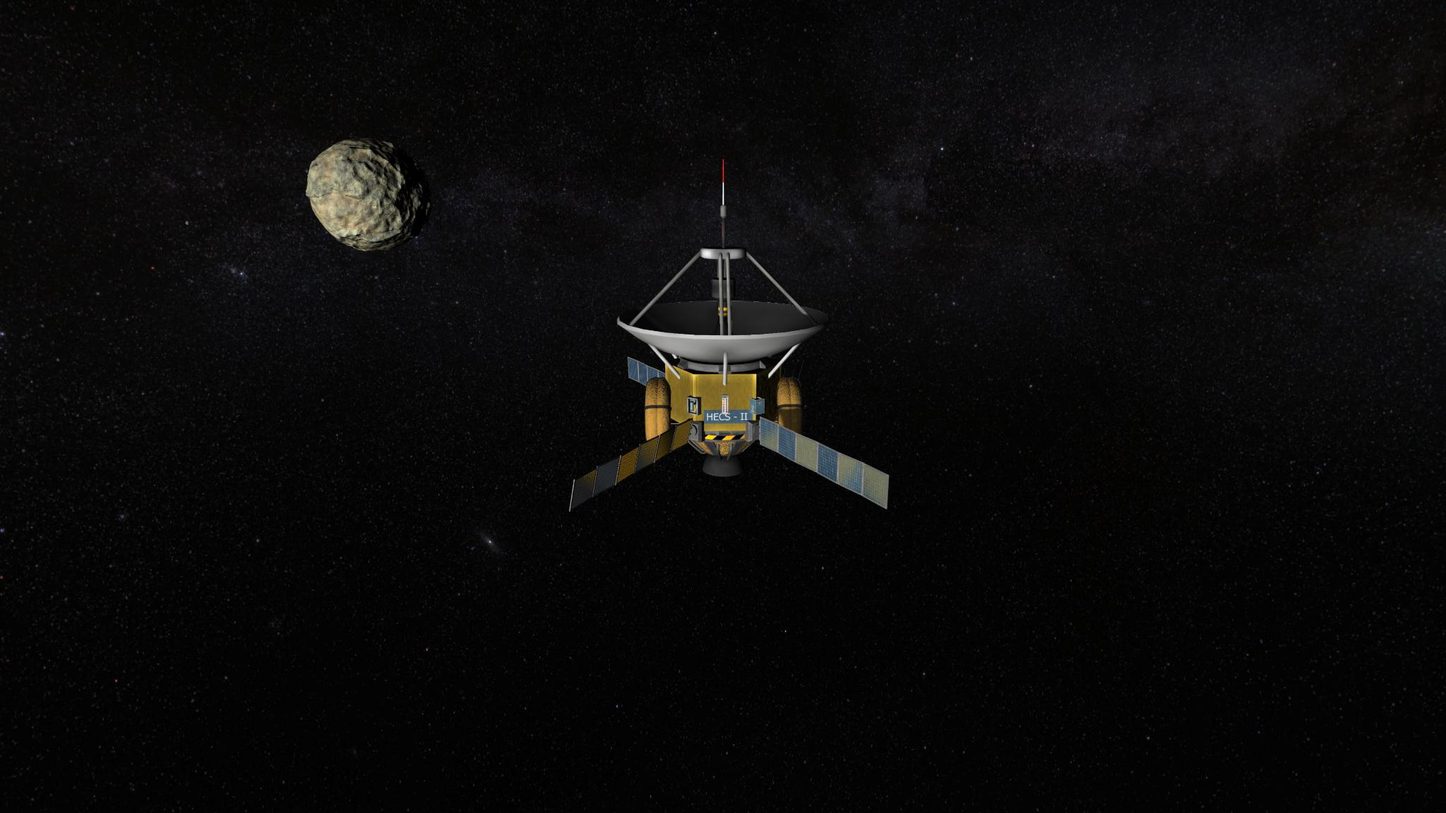antenna: (613, 155, 831, 367)
body: (644, 357, 804, 443)
solar: (759, 416, 891, 510), (567, 418, 694, 514), (624, 355, 667, 387)
thruster: (700, 455, 746, 478)
